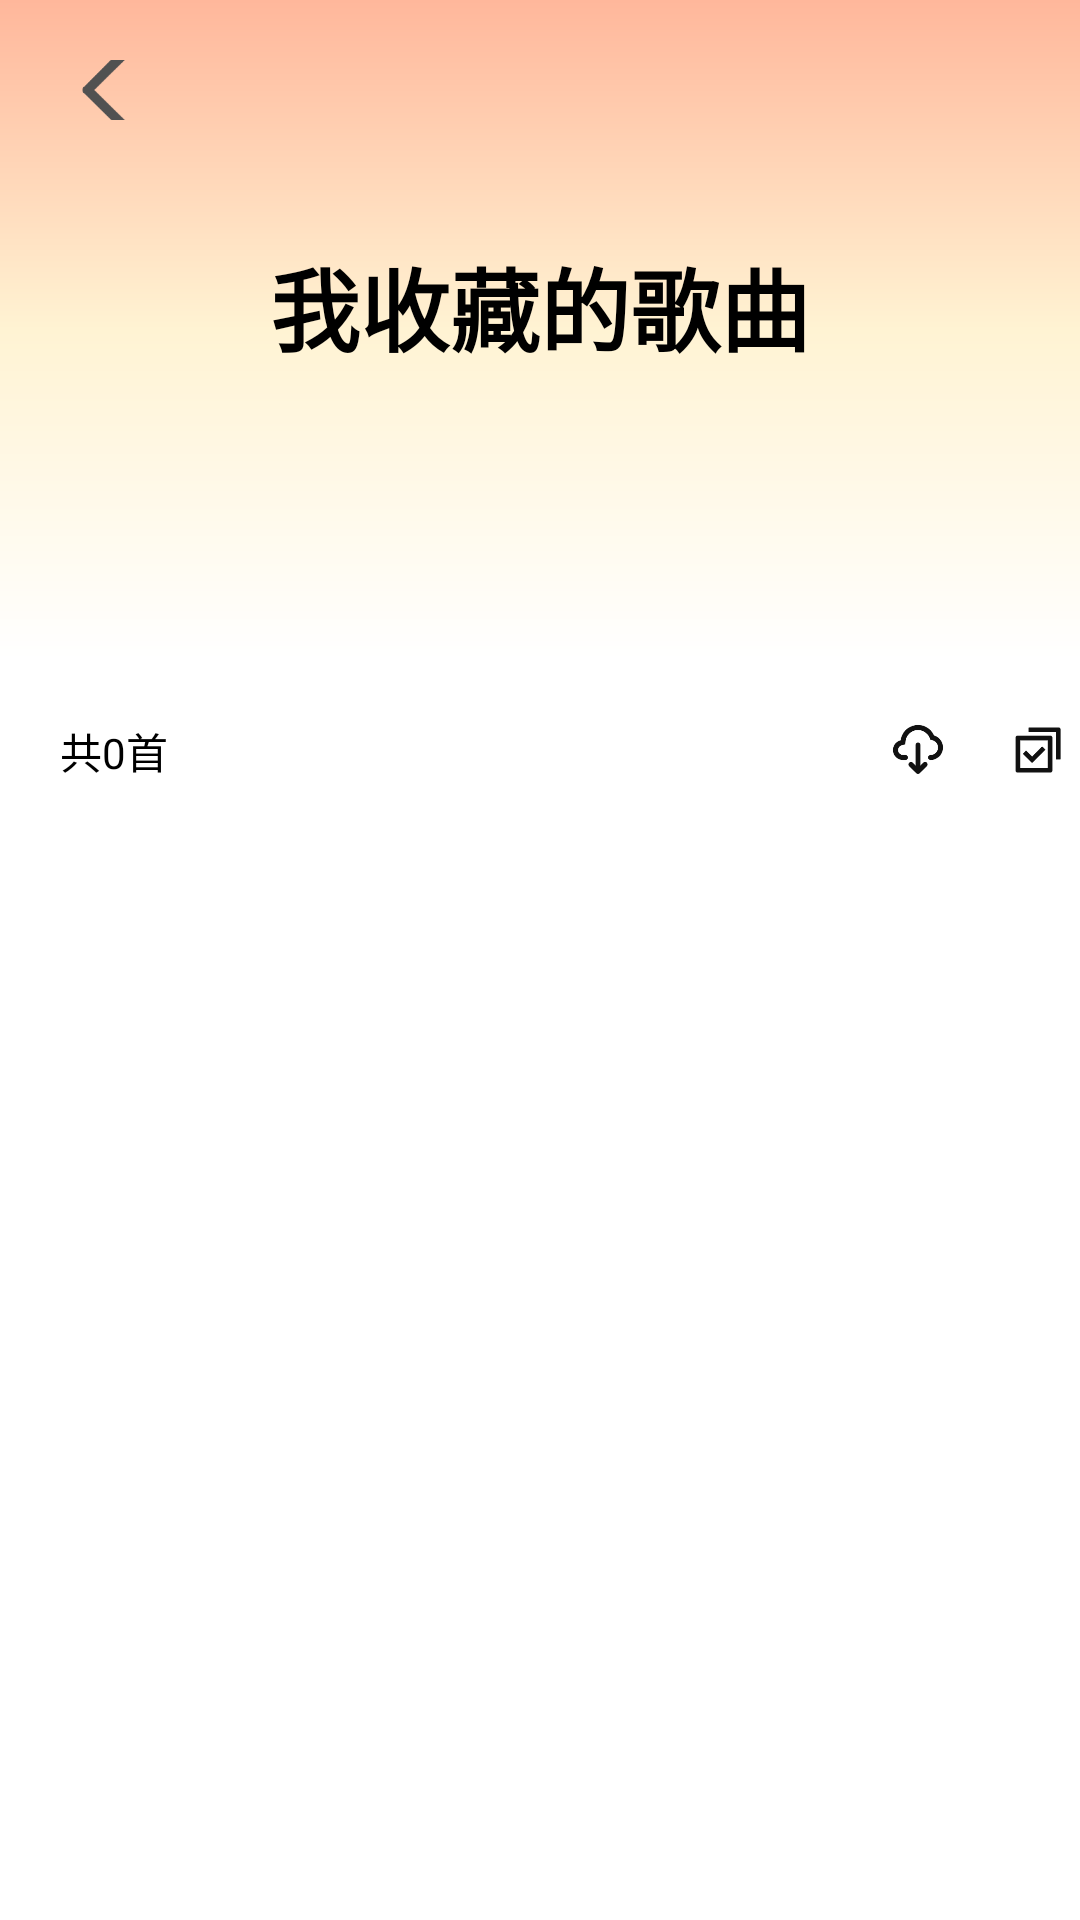

Icons on this 1080w x 1920h Android screen, each with the point to tap as [x,y]:
download: [918,749]
piliang: [1038,750]
